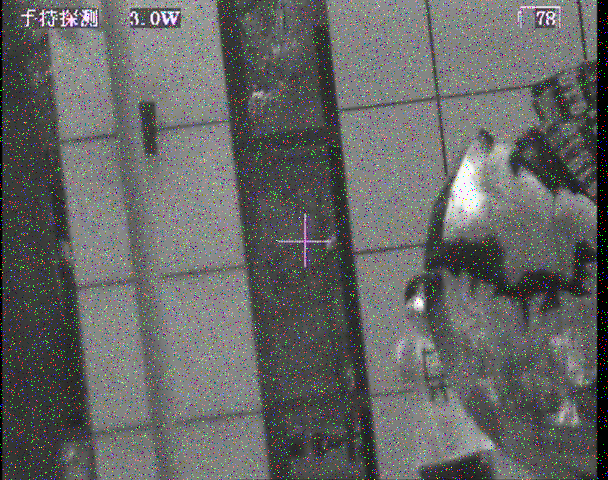my: (412, 297, 425, 311)
